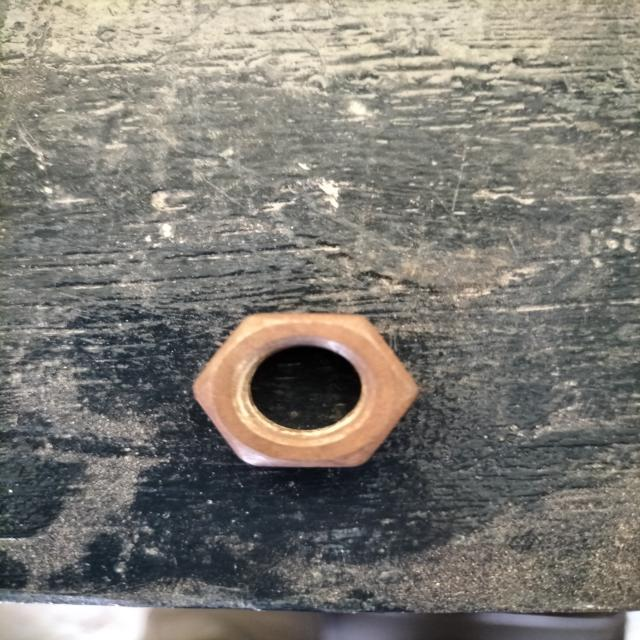nuts: (194, 313, 419, 468)
